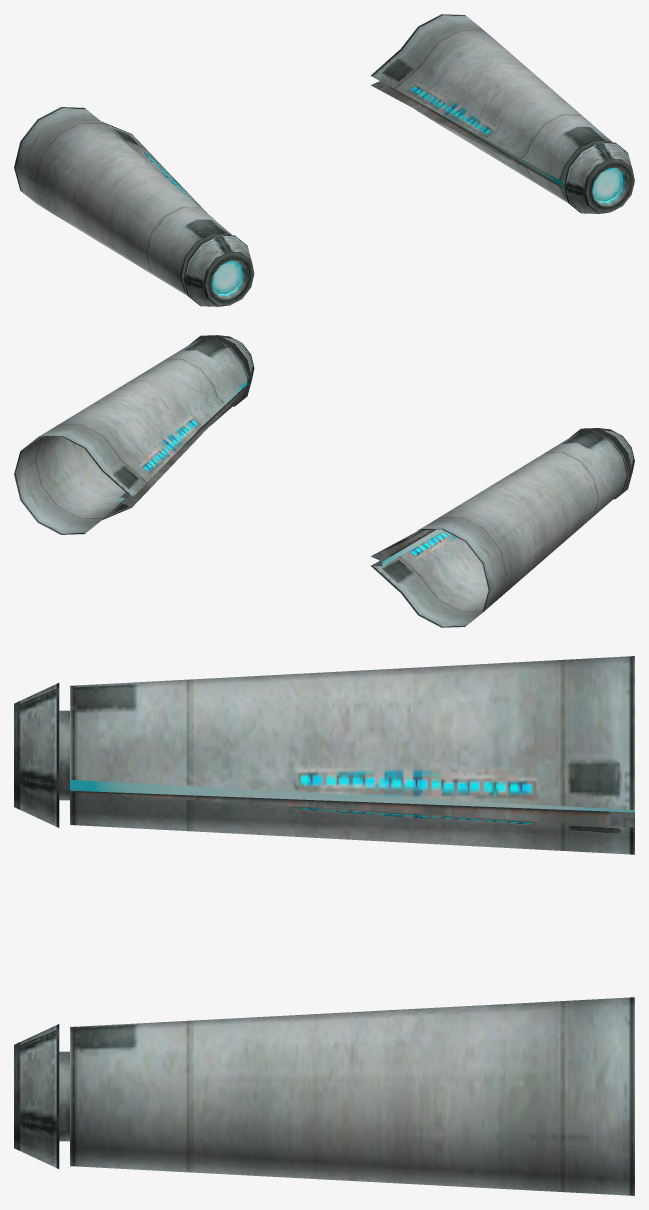
The model's file is ywing_weapon1_s02_l0.fbx.
3 renders of one model, top to bottom at view 1: azimuth 30°, elevation 25°; view 2: azimuth 150°, elevation 25°; view 3: azimuth 270°, elevation 25°, orthographic. The views are drawn at different scales.
Visible parts, largest first — view 1: mesh_node; view 2: mesh_node; view 3: mesh_node.
Boxes of the visible parts, box(x1,y1,x2,y2) form: mesh_node: box(14, 14, 634, 306); mesh_node: box(14, 335, 634, 627); mesh_node: box(14, 656, 634, 1195).
Size of the model in its own units: 1.66 by 0.3282 by 1.02.
1 material, 1 textured.
